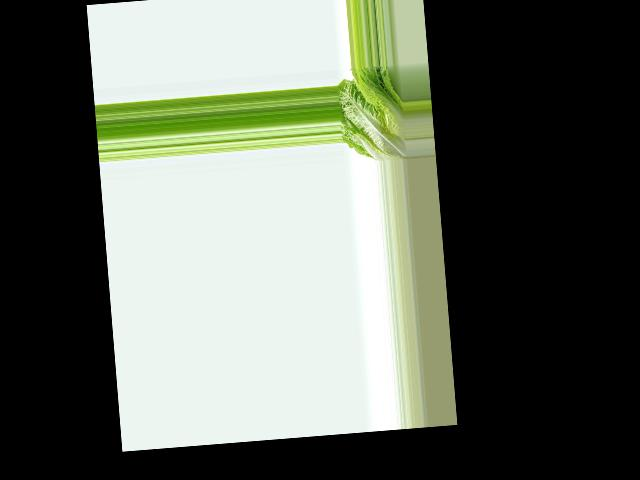lettuce: (337, 63, 407, 163)
